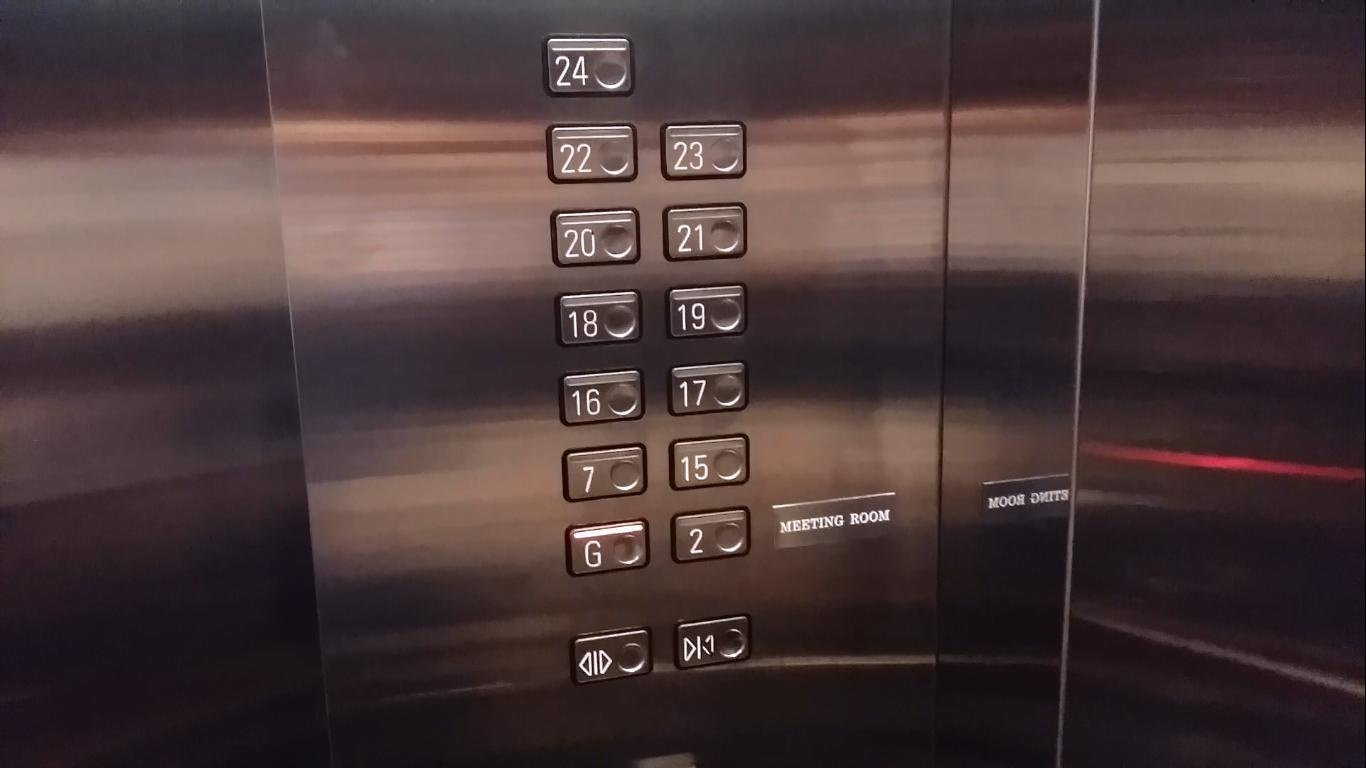15: (668, 430, 751, 490)
16: (557, 368, 646, 428)
17: (666, 361, 748, 417)
18: (555, 291, 642, 346)
19: (664, 283, 747, 340)
2: (668, 506, 753, 564)
20: (550, 205, 641, 268)
21: (662, 199, 750, 262)
22: (546, 120, 639, 185)
23: (657, 118, 748, 182)
24: (541, 33, 635, 98)
7: (560, 440, 650, 504)
G: (564, 517, 652, 578)
close: (671, 610, 755, 669)
open: (568, 623, 655, 688)
